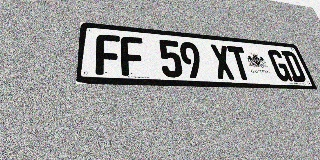5: (158, 39, 184, 78)
9: (179, 41, 205, 78)
D: (281, 50, 307, 82)
F: (95, 34, 121, 76), (120, 36, 145, 76)
G: (267, 49, 293, 82)
T: (227, 46, 253, 80)
X: (209, 44, 236, 80)
